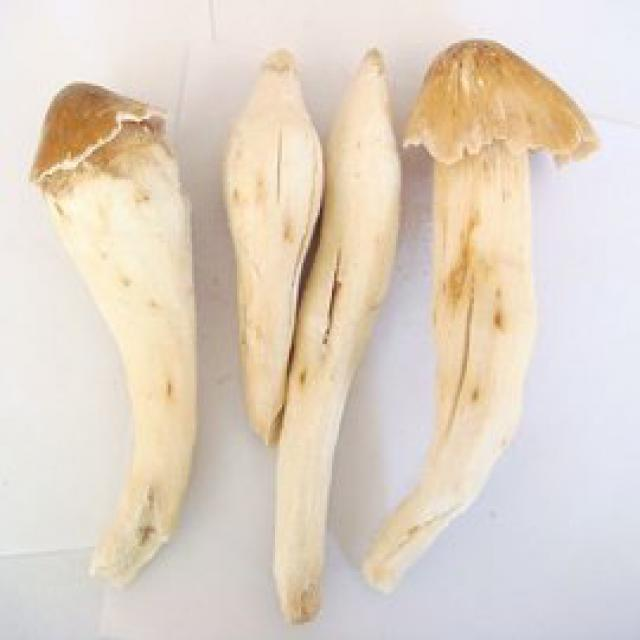Collybia albuminosa: (365, 38, 598, 592), (32, 83, 208, 584), (278, 44, 404, 625), (228, 50, 324, 445)
